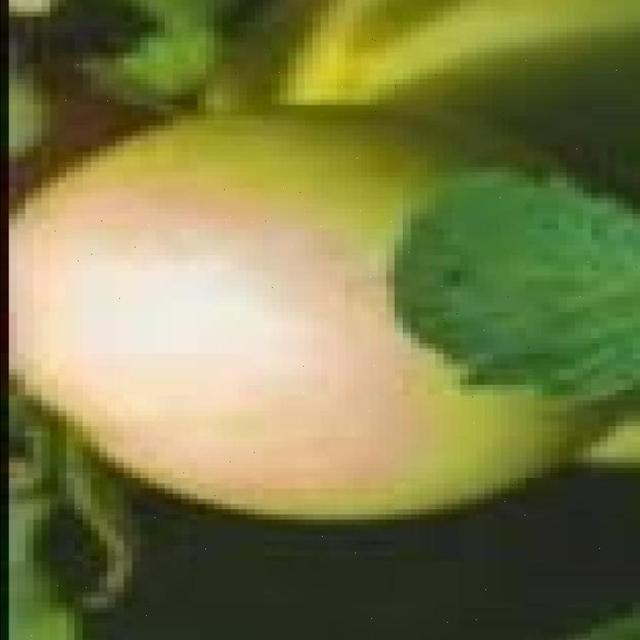Sunscald Fruit: (0, 120, 284, 335)
